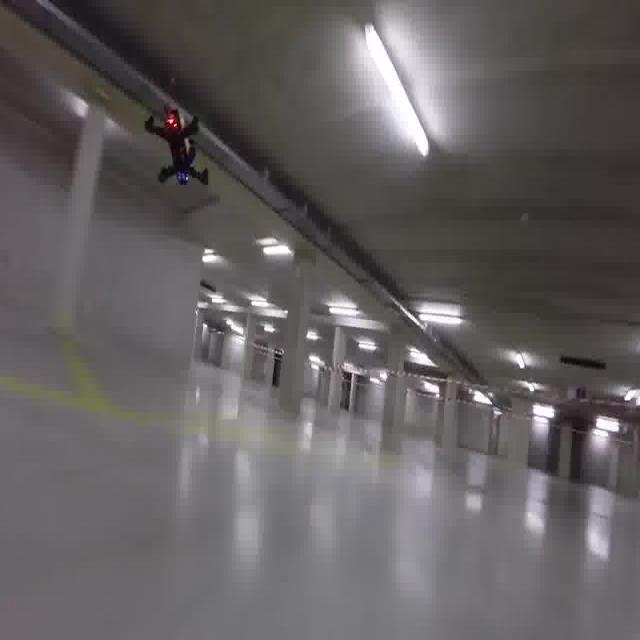drone: (145, 103, 211, 196)
